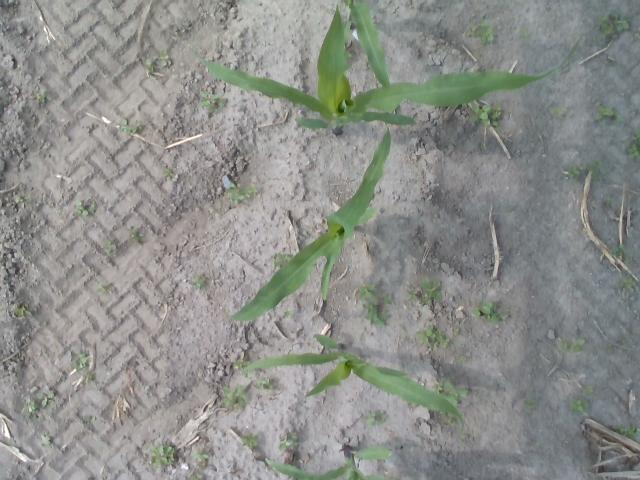Maize: (189, 5, 584, 136), (230, 128, 392, 323), (228, 334, 465, 430), (262, 444, 392, 480), (346, 0, 392, 87)
Weeds: (599, 10, 630, 35), (470, 103, 500, 125), (366, 300, 389, 324), (148, 444, 175, 463), (222, 386, 245, 408), (594, 104, 620, 123), (198, 92, 225, 110), (476, 302, 500, 321), (446, 380, 468, 400), (422, 280, 442, 300), (280, 431, 298, 450), (38, 390, 56, 406), (560, 338, 584, 350), (230, 184, 244, 204), (358, 284, 375, 300), (121, 119, 140, 133), (242, 433, 259, 448), (418, 327, 436, 341), (71, 354, 88, 368), (480, 27, 494, 44), (78, 201, 94, 215), (621, 275, 635, 290), (573, 398, 589, 411), (618, 424, 637, 434), (612, 243, 626, 256), (190, 276, 207, 286), (161, 54, 173, 68), (468, 24, 482, 36), (262, 377, 274, 389), (128, 226, 142, 236), (549, 107, 564, 116), (438, 335, 449, 347), (626, 144, 638, 155), (163, 168, 175, 179), (105, 241, 117, 252), (41, 434, 52, 445), (24, 401, 36, 411), (14, 306, 26, 316), (246, 184, 258, 194), (37, 92, 47, 103), (367, 412, 376, 424), (406, 290, 416, 300), (524, 398, 534, 408), (196, 453, 208, 461), (98, 283, 110, 291), (569, 167, 578, 177), (432, 382, 443, 390), (381, 410, 388, 422), (582, 384, 592, 392), (632, 131, 640, 141), (454, 327, 460, 334), (458, 356, 466, 360)
